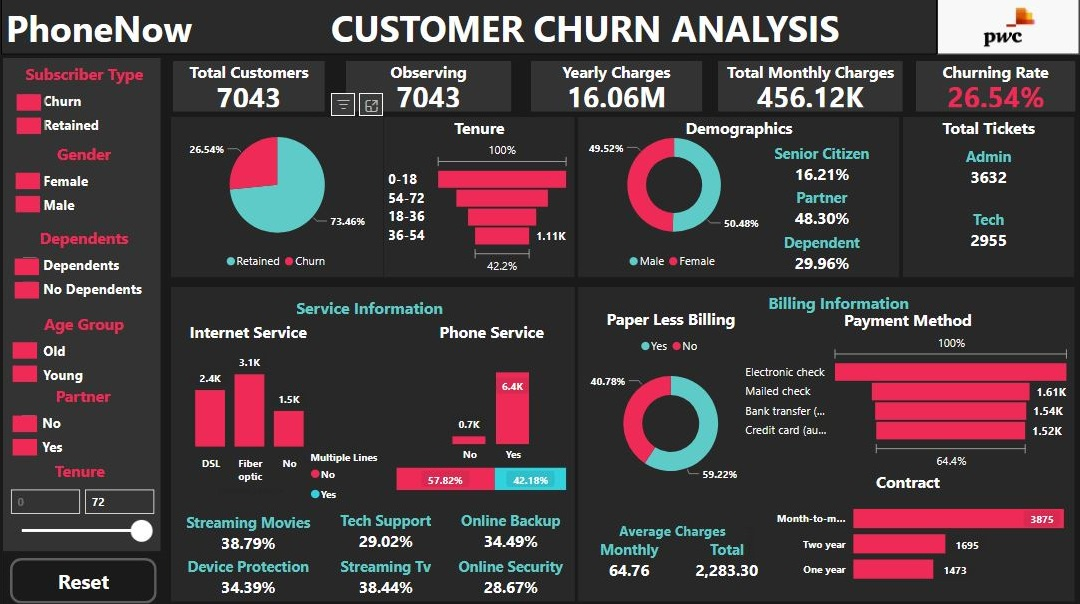

This screenshot's page, from the dashboard's own definition file:
{"tool":"powerbi","page":{"name":"Customer Profile","canvas":[1280,720],"ordinal":0},"visuals":[{"type":"textbox","box":[282.3,0,829.4,67],"z":0},{"type":"image","box":[1111.4,0,168,67.2],"z":1000},{"type":"textbox","box":[0,0,281.9,67.2],"z":2000},{"type":"lineStackedColumnComboChart","fields":{"Category":["01 Churn-Dataset.Contract"],"Y":["CountNonNull(01 Churn-Dataset.customerID)"]},"box":[205.5,434,343.5,273.1],"z":3000},{"type":"slicer","title":"Subscriber Type","fields":{"Values":["01 Churn-Dataset.Churn - Copy"]},"box":[0,79,188.7,103.9],"z":4000},{"type":"funnel","fields":{"Category":["01 Churn-Dataset.Tenure-Range"],"Y":["CountNonNull(01 Churn-Dataset.customerID)"]},"box":[549,172.5,378,245.7],"z":5000},{"type":"pieChart","fields":{"Y":["CountNonNull(01 Churn-Dataset.customerID)"],"Category":["01 Churn-Dataset.Churn - Copy"]},"box":[204.1,172.5,344.9,245.7],"z":6000},{"type":"card","title":"Total Customers","fields":{"Values":["CountNonNull(01 Churn-Dataset.customerID)"]},"box":[204.1,79,201.2,74.7],"z":7000},{"type":"card","title":"Observing Customers","fields":{"Values":["CountNonNull(01 Churn-Dataset.customerID)"]},"box":[405.3,79,218.4,74.7],"z":8000},{"type":"actionButton","box":[0,653.9,188.7,54.1],"z":9000},{"type":"slicer","title":"Gender","fields":{"Values":["01 Churn-Dataset.gender"]},"box":[0,182.9,188.7,74.6],"z":10000},{"type":"columnChart","fields":{"Y":["CountNonNull(01 Churn-Dataset.customerID)"],"Category":["01 Churn-Dataset.PhoneService"]},"box":[926.9,172.5,340.6,245.7],"z":11000},{"type":"slicer","title":"Age Group","fields":{"Values":["01 Churn-Dataset.SeniorCitizen"]},"box":[0,329.1,188.7,67.3],"z":12000},{"type":"clusteredColumnChart","fields":{"Category":["01 Churn-Dataset.InternetService"],"Y":["CountNonNull(01 Churn-Dataset.customerID)"]},"box":[549,434,378,273.1],"z":13000},{"type":"slicer","title":"Dependents","fields":{"Values":["01 Churn-Dataset.Dependents"]},"box":[0,257.5,188.7,71.7],"z":14000},{"type":"columnChart","fields":{"Category":["01 Churn-Dataset.PaperlessBilling"],"Y":["CountNonNull(01 Churn-Dataset.customerID)"]},"box":[926.9,434,340.6,273.1],"z":15000},{"type":"slicer","title":"Partner","fields":{"Values":["01 Churn-Dataset.Partner"]},"box":[0,396.4,188.7,73.1],"z":16000},{"type":"card","title":"Churning Rate","fields":{"Values":["01 Churn-Dataset.Churn Rate"]},"box":[1069.3,79,198.9,74.6],"z":17000},{"type":"card","title":"Total Yearly Charges","fields":{"Values":["Sum(01 Churn-Dataset.TotalCharges)"]},"box":[623.7,79,232.8,74.7],"z":18000},{"type":"card","title":"Total Monthly Charges","fields":{"Values":["Sum(01 Churn-Dataset.MonthlyCharges)"]},"box":[855.1,79,214.1,74.7],"z":19000},{"type":"slicer","title":"Tenure","fields":{"Values":["01 Churn-Dataset.tenure"]},"box":[0,469.6,188.7,115.6],"z":20000}]}

Visuals, with their boxes in screenshot pixels (x1, y1, x2, y2), scaled from the page's 1280x720 canvas onto the 1080x604 screenshot:
textbox: [238, 0, 938, 56]
image: [938, 0, 1079, 56]
textbox: [0, 0, 238, 56]
lineStackedColumnComboChart - 01 Churn-Dataset.Contract x CountNonNull(01 Churn-Dataset.customerID): [173, 364, 463, 593]
"Subscriber Type" slicer: [0, 66, 159, 153]
funnel - 01 Churn-Dataset.Tenure-Range x CountNonNull(01 Churn-Dataset.customerID): [463, 145, 782, 351]
pieChart - CountNonNull(01 Churn-Dataset.customerID) x 01 Churn-Dataset.Churn - Copy: [172, 145, 463, 351]
"Total Customers" card: [172, 66, 342, 129]
"Observing Customers" card: [342, 66, 526, 129]
actionButton: [0, 549, 159, 594]
"Gender" slicer: [0, 153, 159, 216]
columnChart - CountNonNull(01 Churn-Dataset.customerID) x 01 Churn-Dataset.PhoneService: [782, 145, 1069, 351]
"Age Group" slicer: [0, 276, 159, 333]
clusteredColumnChart - 01 Churn-Dataset.InternetService x CountNonNull(01 Churn-Dataset.customerID): [463, 364, 782, 593]
"Dependents" slicer: [0, 216, 159, 276]
columnChart - 01 Churn-Dataset.PaperlessBilling x CountNonNull(01 Churn-Dataset.customerID): [782, 364, 1069, 593]
"Partner" slicer: [0, 333, 159, 394]
"Churning Rate" card: [902, 66, 1070, 129]
"Total Yearly Charges" card: [526, 66, 723, 129]
"Total Monthly Charges" card: [721, 66, 902, 129]
"Tenure" slicer: [0, 394, 159, 491]
